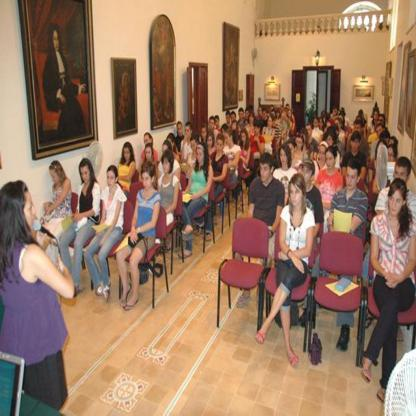face: (21, 193, 37, 230), (390, 192, 404, 216), (291, 185, 303, 206), (347, 171, 358, 190), (300, 166, 311, 185), (395, 167, 407, 184), (108, 172, 117, 189), (49, 170, 59, 185), (143, 175, 152, 191), (327, 153, 336, 169), (261, 165, 270, 181), (54, 32, 61, 51), (319, 147, 327, 163), (82, 168, 90, 183), (197, 149, 205, 163), (163, 159, 171, 173), (280, 151, 288, 164), (144, 136, 152, 148), (124, 149, 131, 162), (297, 138, 304, 151), (352, 139, 360, 150), (146, 149, 153, 161), (288, 145, 295, 157), (327, 137, 334, 148), (306, 127, 313, 138), (300, 132, 306, 144), (355, 124, 362, 134), (218, 141, 224, 152), (225, 135, 231, 146), (178, 125, 184, 136), (163, 147, 169, 158), (377, 128, 384, 137), (336, 120, 341, 131), (186, 126, 191, 137), (208, 137, 213, 148), (192, 142, 198, 151), (389, 147, 394, 157), (202, 129, 207, 139), (168, 139, 173, 149), (125, 78, 130, 88), (255, 127, 261, 135), (340, 116, 345, 125), (210, 120, 215, 129), (377, 121, 383, 128), (380, 117, 385, 125), (386, 135, 391, 143), (315, 119, 320, 127), (215, 119, 220, 127), (242, 134, 247, 142), (262, 112, 267, 120), (268, 120, 273, 128), (240, 112, 245, 120), (232, 123, 237, 131), (223, 129, 228, 137), (390, 138, 394, 147), (320, 119, 324, 128), (227, 116, 231, 125), (357, 117, 362, 124), (250, 116, 255, 123), (231, 115, 236, 122), (334, 109, 339, 115), (375, 113, 379, 120), (275, 118, 279, 125), (283, 112, 287, 119), (247, 111, 251, 118), (289, 112, 293, 118), (259, 109, 262, 116), (154, 89, 158, 94), (287, 106, 291, 111), (272, 113, 276, 118), (323, 114, 326, 119), (360, 113, 363, 117), (271, 109, 274, 113)
